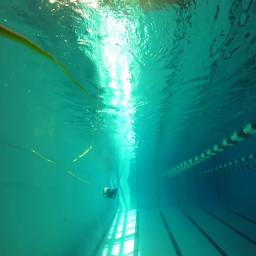back: (103, 188, 116, 198)
